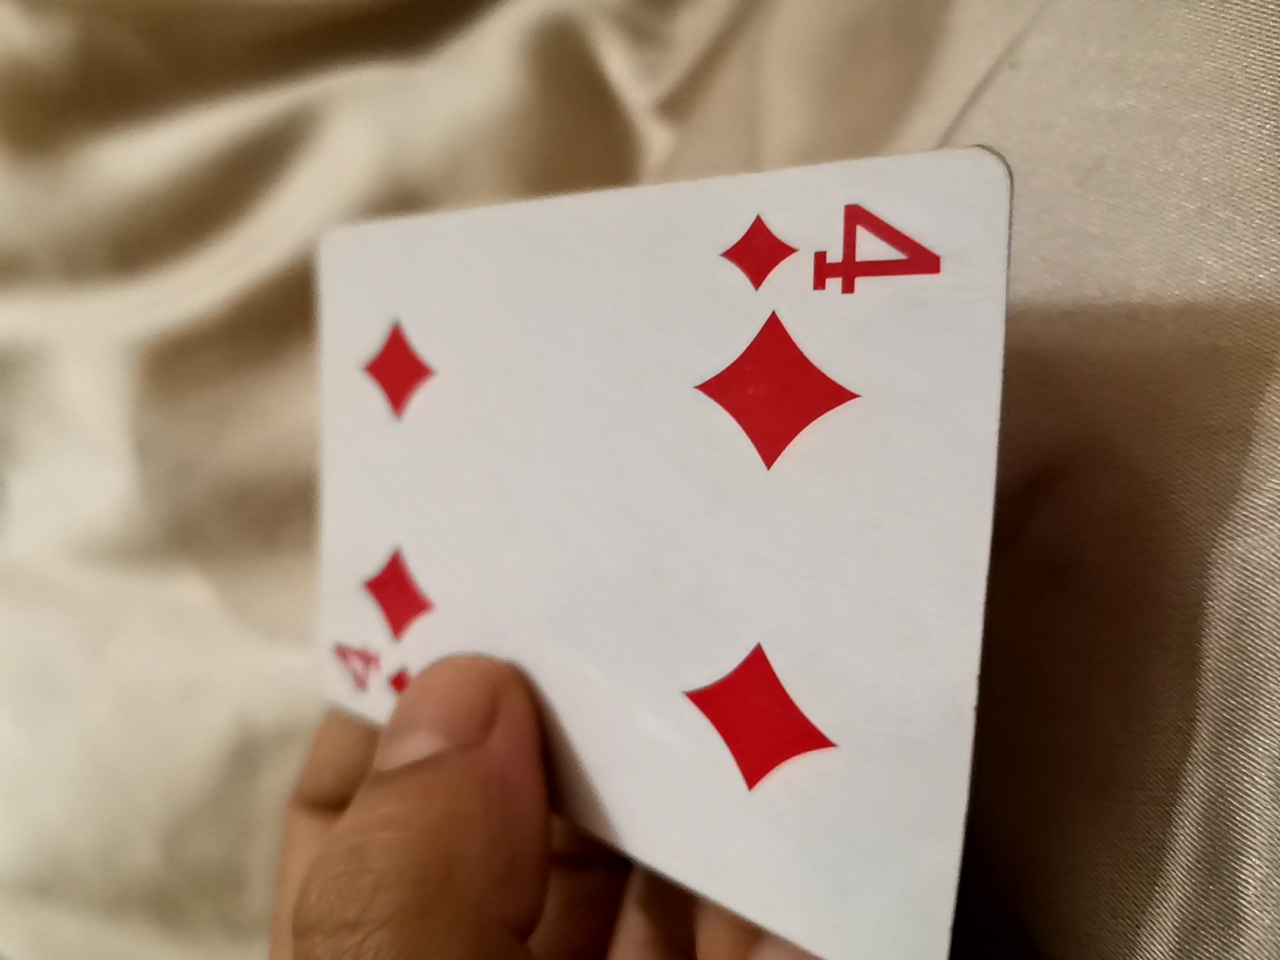fk 4: (244, 151, 1038, 950)
